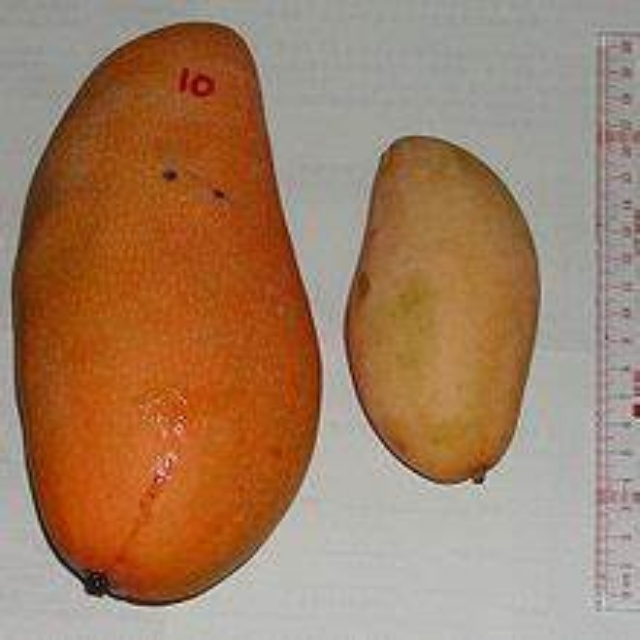mango: (12, 19, 321, 604), (351, 135, 542, 497)
